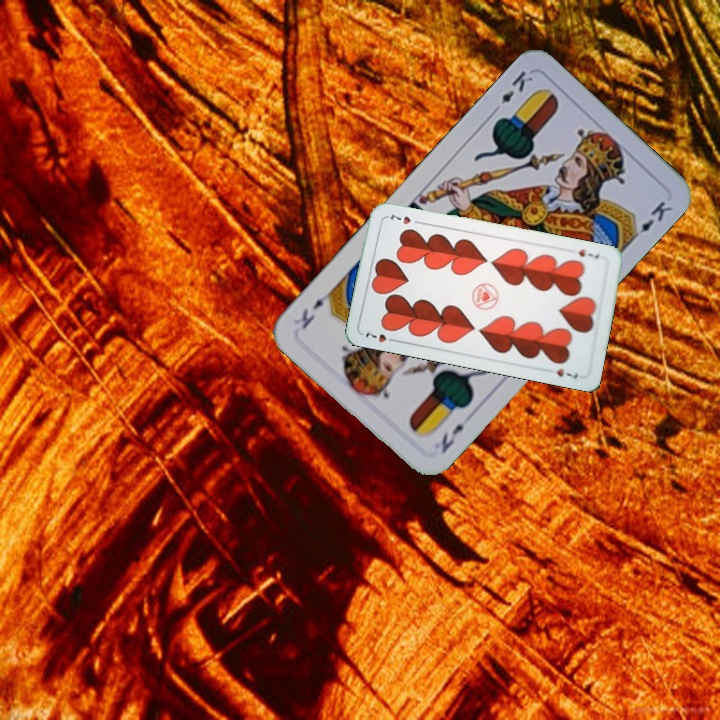EK: (488, 66, 536, 117), (437, 419, 467, 456)
H7: (361, 328, 400, 345), (575, 245, 602, 261)
